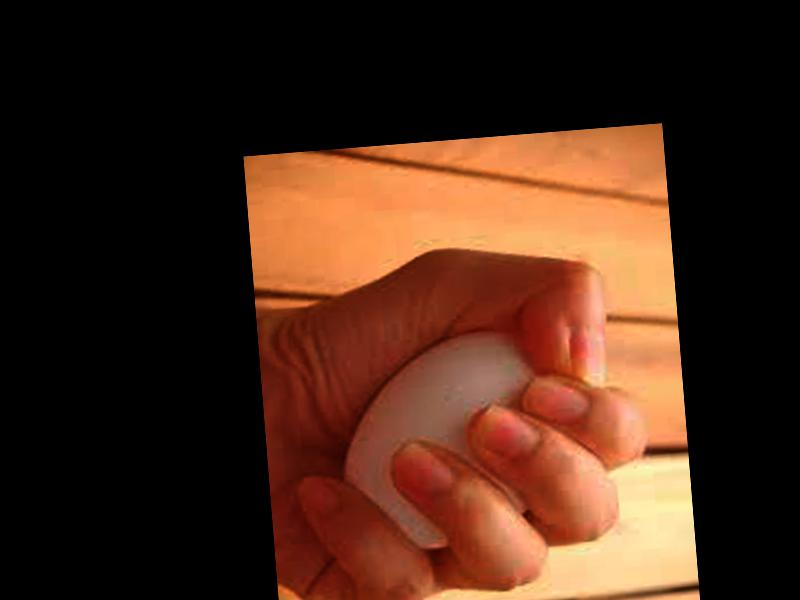Eggs: (333, 326, 547, 556)
